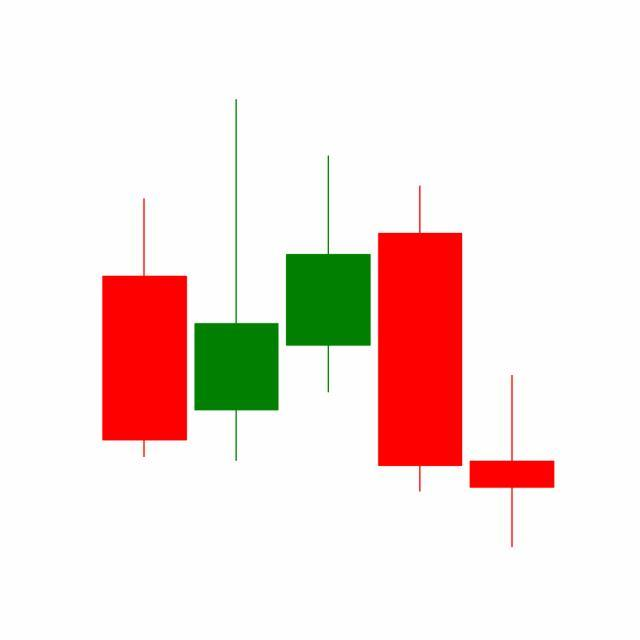Three Outside Up-Down: (280, 151, 555, 548)
